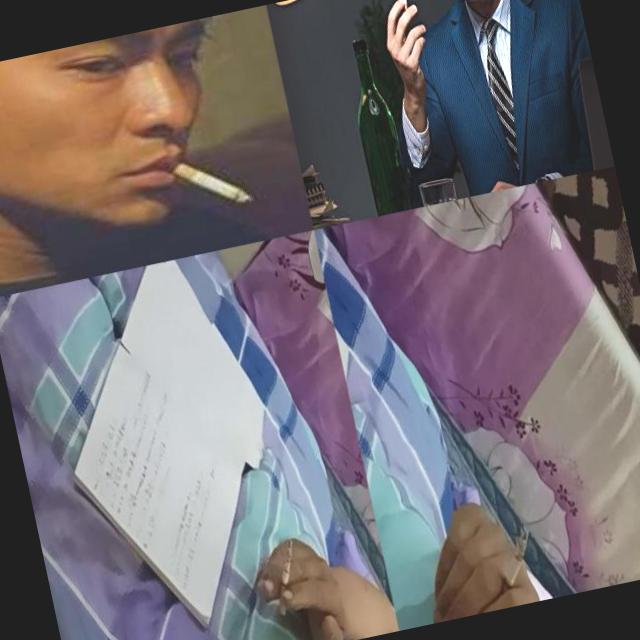cigarette: (160, 139, 255, 220), (484, 523, 544, 608), (262, 536, 306, 617), (397, 0, 412, 20)
